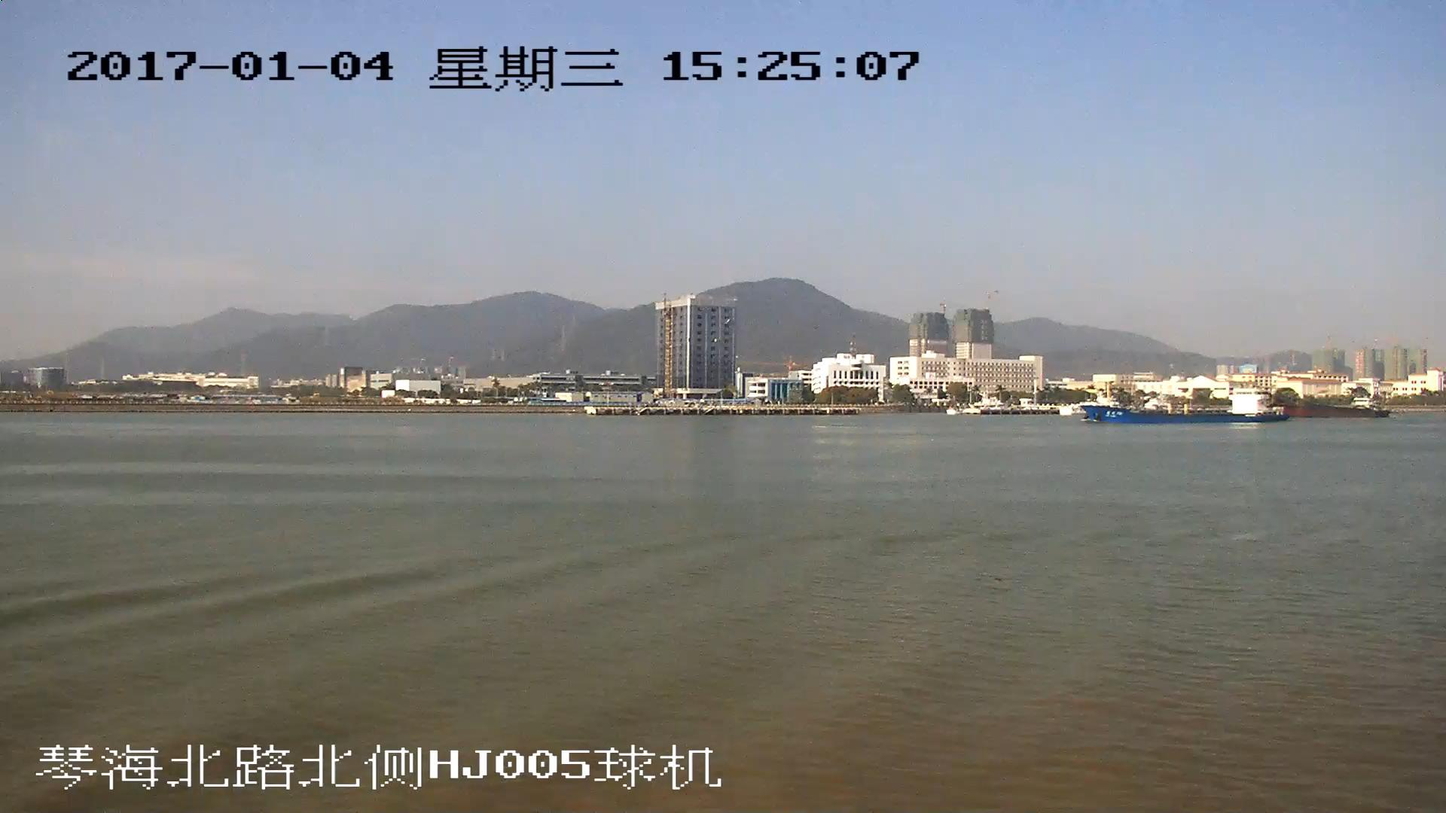general cargo ship: (1084, 385, 1283, 422)
